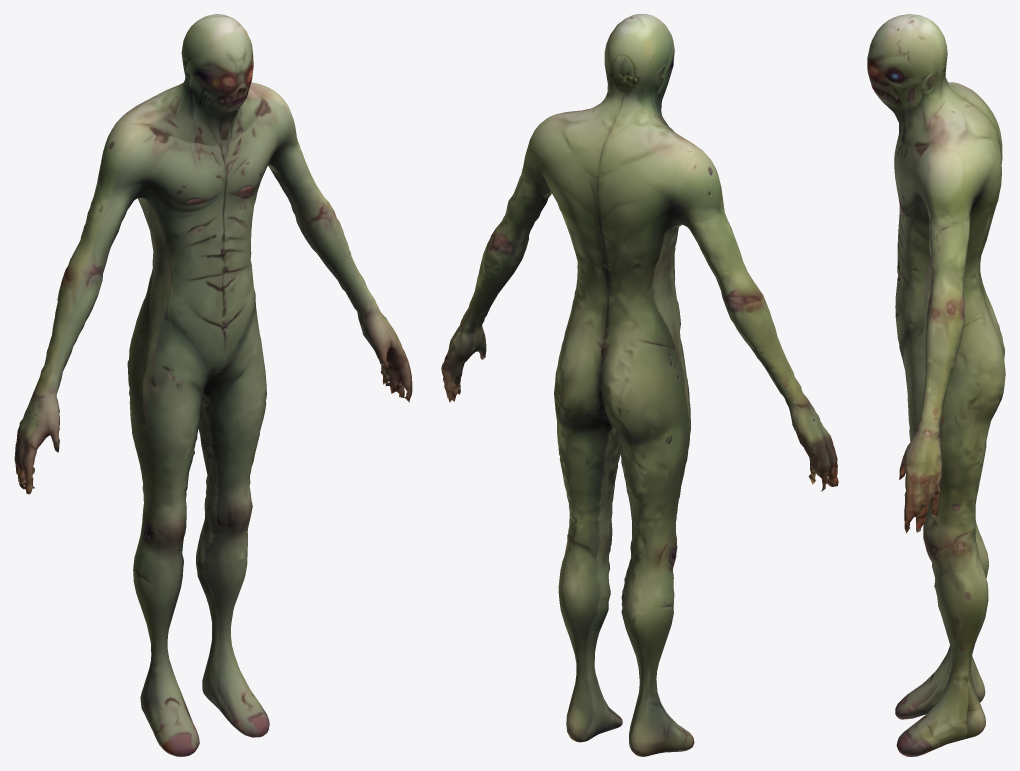
File: humanoid_hospital_ter_1004163405_refine.fbx
3 renders of one model, left to right at view 1: azimuth 30°, elevation 25°; view 2: azimuth 150°, elevation 25°; view 3: azimuth 270°, elevation 25°, orthographic.
Parts seen in each view (by area): view 1: Mesh_0; view 2: Mesh_0; view 3: Mesh_0.
Boxes of the visible parts, x1,y1,x2,y2 form: Mesh_0: [14, 14, 412, 756]; Mesh_0: [441, 14, 838, 756]; Mesh_0: [867, 14, 1005, 756].
Size of the model in its own units: 67.7 by 120 by 20.92.
Materials: 1 (1 with a texture image).
